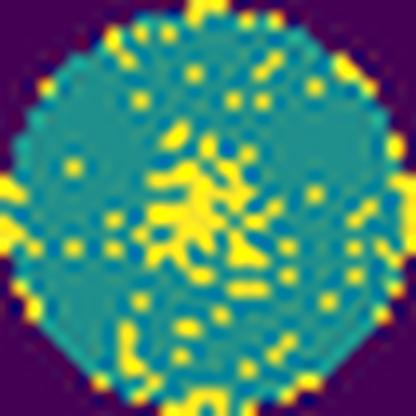Center: (143, 122, 286, 300)
